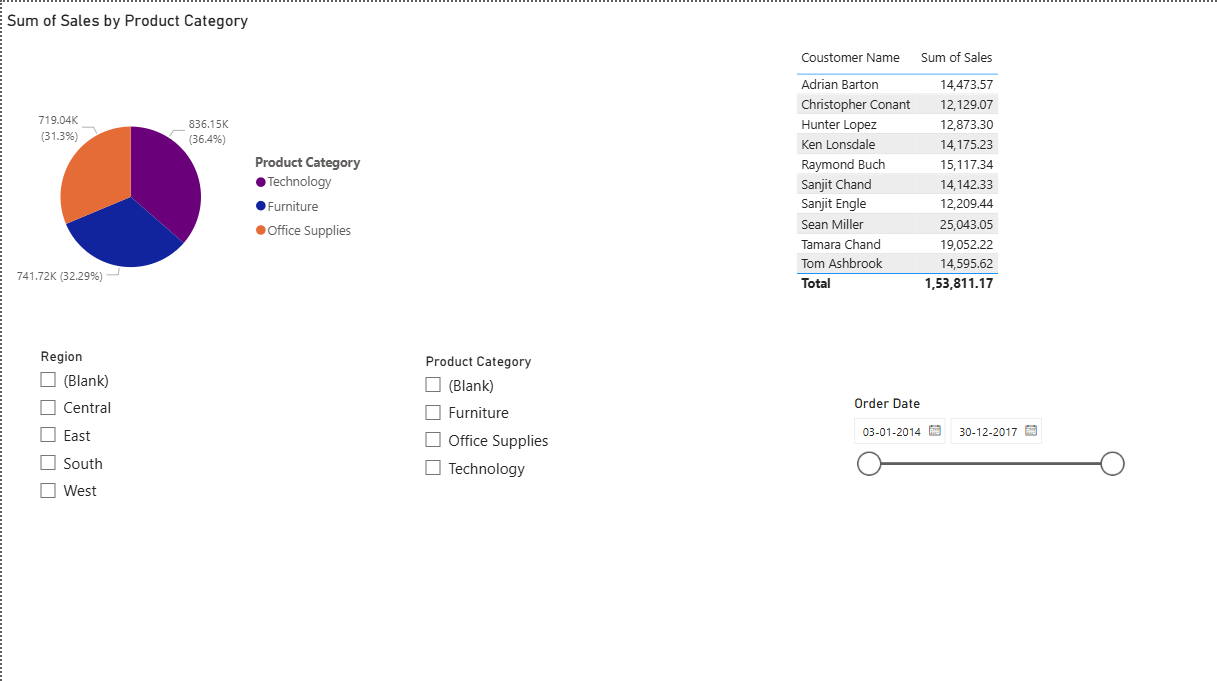

Layout of this report page (visuals, bound fields, positions):
{"tool":"powerbi","page":{"name":"Page 2","canvas":[1280,720],"ordinal":1},"visuals":[{"type":"pieChart","fields":{"Category":["Sample - Superstore.Product Category"],"Y":["Sum(Sample - Superstore.Sales)"]},"box":[0,9.8,397.4,373],"z":0},{"type":"tableEx","fields":{"Values":["Sample - Superstore.Coustomer Name","Sum(Sample - Superstore.Sales)"]},"box":[830.3,41.6,450,341.2],"z":1000},{"type":"slicer","fields":{"Values":["Sample - Superstore.Region"]},"box":[28.1,359.5,398.6,278.8],"z":2000},{"type":"slicer","fields":{"Values":["Sample - Superstore.Product Category"]},"box":[432.9,364.4,397.4,273.9],"z":3000},{"type":"slicer","fields":{"Values":["Sample - Superstore.Order Date"]},"box":[884.1,409.6,305.7,273.9],"z":4000}]}

Visuals, with their boxes in screenshot pixels (x1, y1, x2, y2), scaled from the page's 1280x720 canvas onto the 1217x681 screenshot:
pieChart - Sample - Superstore.Product Category x Sum(Sample - Superstore.Sales): rect(0, 9, 378, 362)
tableEx - Sample - Superstore.Coustomer Name x Sum(Sample - Superstore.Sales): rect(789, 39, 1216, 362)
slicer - Sample - Superstore.Region: rect(27, 340, 406, 604)
slicer - Sample - Superstore.Product Category: rect(412, 345, 789, 604)
slicer - Sample - Superstore.Order Date: rect(841, 387, 1131, 646)
